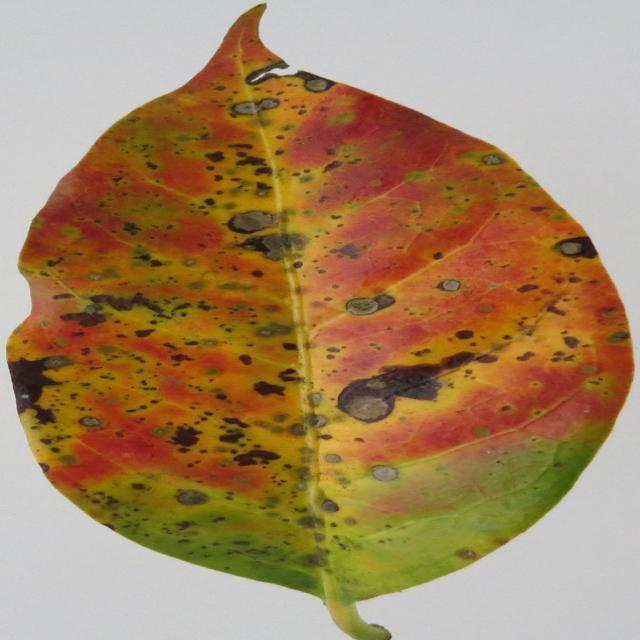DeficienciaNutricional-Fosforo: (8, 6, 632, 638)
